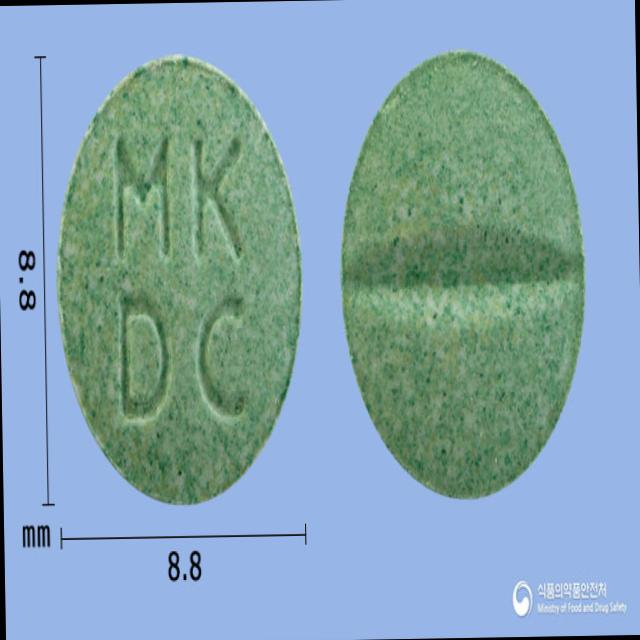Bydoxy: (51, 44, 310, 516)
